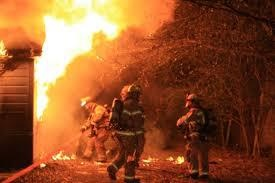fire: (31, 2, 118, 114), (160, 150, 187, 165), (50, 149, 76, 162)
